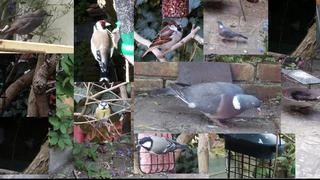blue tit: (94, 101, 111, 128)
goldfinch: (90, 20, 114, 82)
great tit: (136, 136, 189, 155)
sparrow: (141, 20, 184, 58)
starling: (3, 8, 54, 42)
wood pigeon: (154, 82, 261, 129), (216, 20, 248, 42)
